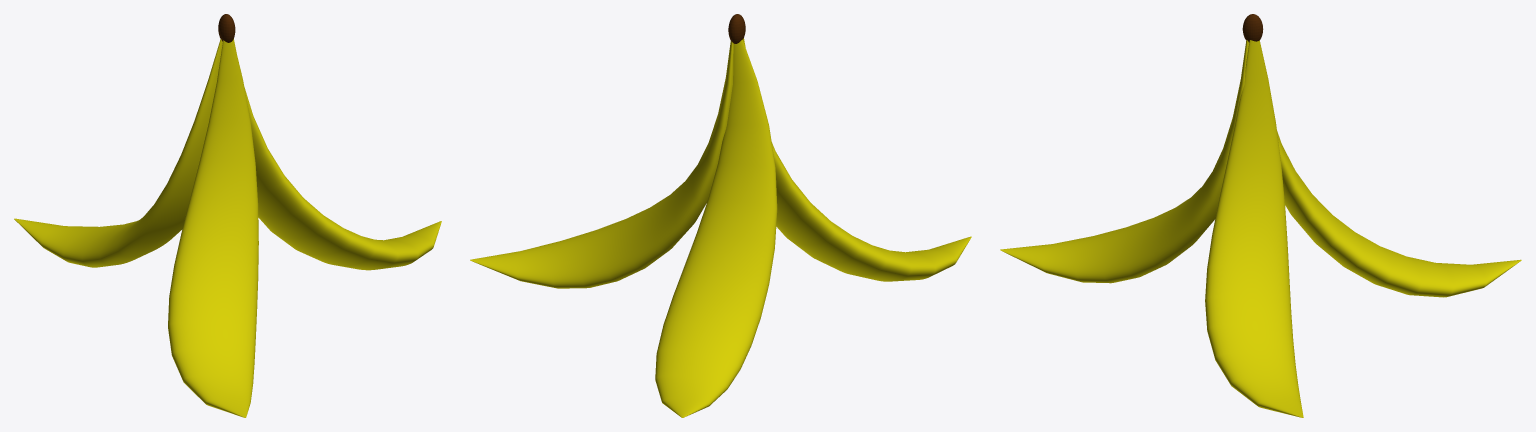
Rendered from bananaKai.fbx.
3 views of the same model, side by side, from view 1: azimuth 30°, elevation 25°; view 2: azimuth 150°, elevation 25°; view 3: azimuth 270°, elevation 25° (orthographic).
Visible parts, largest first — view 1: 球; view 2: 球; view 3: 球.
Part boxes in pixels (x1,y1,x2,y2): 球: [14, 14, 441, 417]; 球: [470, 14, 971, 417]; 球: [1000, 14, 1521, 417].
Size of the model in its own units: 206 by 164 by 257.
